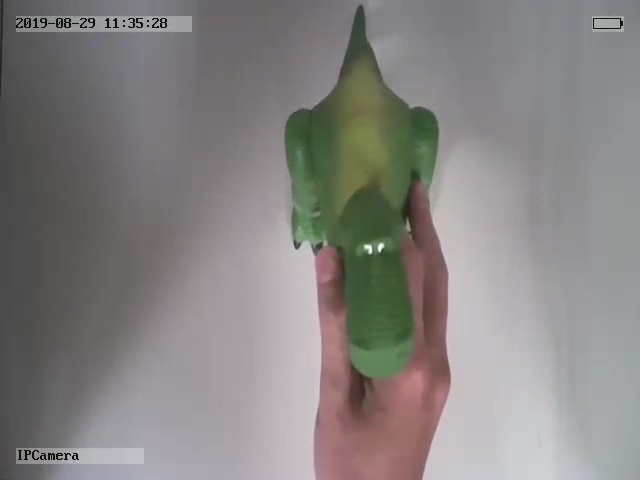rex: (282, 5, 441, 380)
